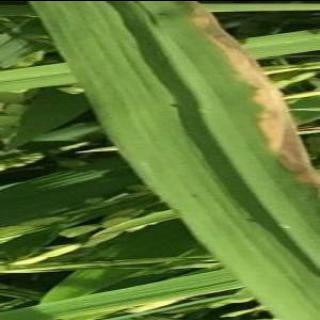Hawar-Daun: (172, 1, 319, 191)
